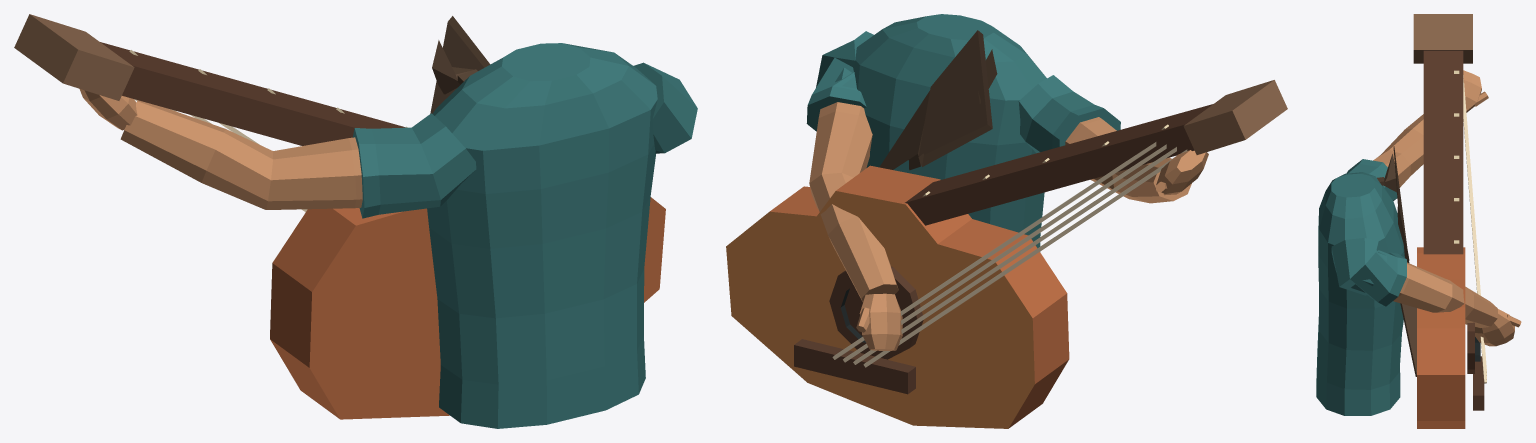
The model's file is lwf_guitarist_male_kit_v2.glb.
The picture shows the model from 3 angles, left to right: view 1: azimuth 30°, elevation 25°; view 2: azimuth 150°, elevation 25°; view 3: azimuth 270°, elevation 25°; orthographic projection. The views are drawn at different scales.
Visible parts, largest first — view 1: LWF_Guitarist_RightPlayingArm, LWF_Guitarist_AcousticGuitar, LWF_Guitarist_LeftPlayingArm, LWF_Fitted_LeatherStrap; view 2: LWF_Guitarist_AcousticGuitar, LWF_Guitarist_RightPlayingArm, LWF_Guitarist_LeftPlayingArm, LWF_Fitted_LeatherStrap; view 3: LWF_Guitarist_RightPlayingArm, LWF_Guitarist_AcousticGuitar, LWF_Guitarist_LeftPlayingArm, LWF_Fitted_LeatherStrap.
Part boxes in pixels (bbox=[...]): LWF_Guitarist_RightPlayingArm: bbox=[427, 43, 697, 428]; LWF_Guitarist_AcousticGuitar: bbox=[14, 14, 665, 419]; LWF_Guitarist_LeftPlayingArm: bbox=[79, 89, 476, 218]; LWF_Fitted_LeatherStrap: bbox=[430, 16, 490, 113]; LWF_Guitarist_AcousticGuitar: bbox=[726, 80, 1287, 428]; LWF_Guitarist_RightPlayingArm: bbox=[806, 14, 1046, 350]; LWF_Guitarist_LeftPlayingArm: bbox=[1018, 75, 1208, 203]; LWF_Fitted_LeatherStrap: bbox=[879, 30, 997, 170]; LWF_Guitarist_RightPlayingArm: bbox=[1316, 172, 1521, 415]; LWF_Guitarist_AcousticGuitar: bbox=[1413, 14, 1486, 428]; LWF_Guitarist_LeftPlayingArm: bbox=[1346, 70, 1488, 200]; LWF_Fitted_LeatherStrap: bbox=[1377, 146, 1416, 376].
Size of the model in its own units: 0.9672 by 0.7009 by 0.4661.
Materials: 3 (3 with a texture image).
